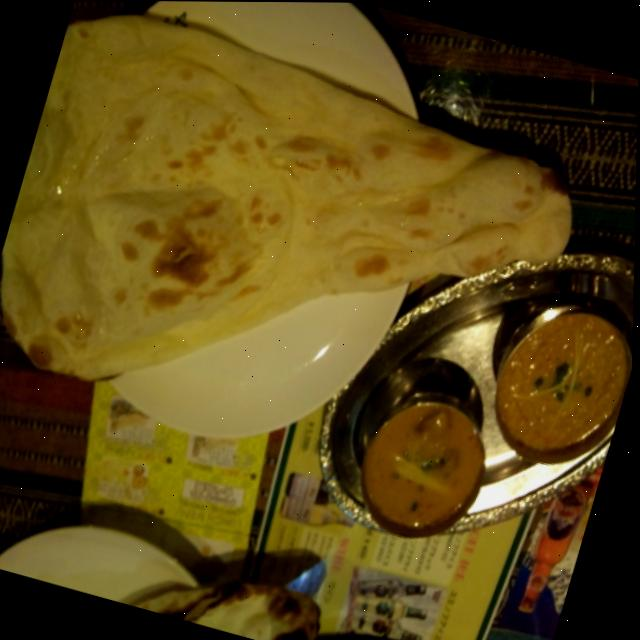牛肉菜式: (466, 270, 635, 497), (334, 373, 511, 569)
